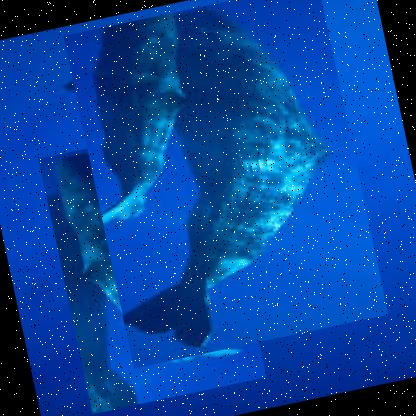sperm_whale: (61, 0, 388, 370), (36, 122, 266, 414)
